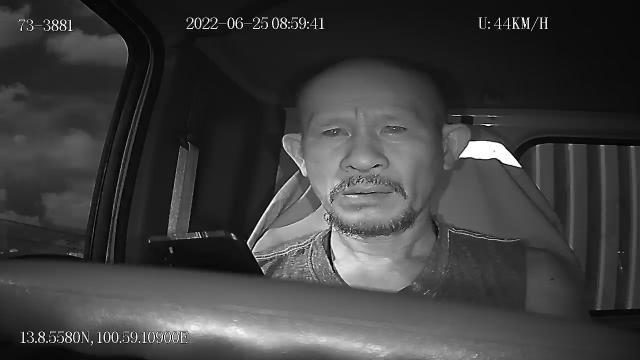PhoneUse: (146, 228, 266, 278)
SafeDriving: (371, 112, 417, 142), (311, 115, 356, 144)
